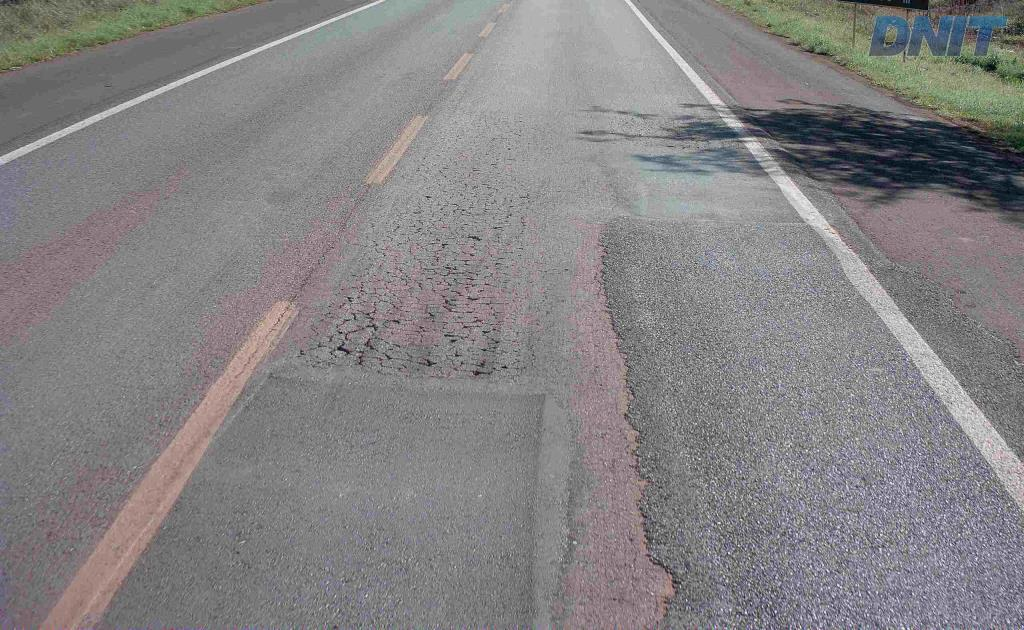crack: (335, 303, 388, 352), (373, 278, 413, 314)
